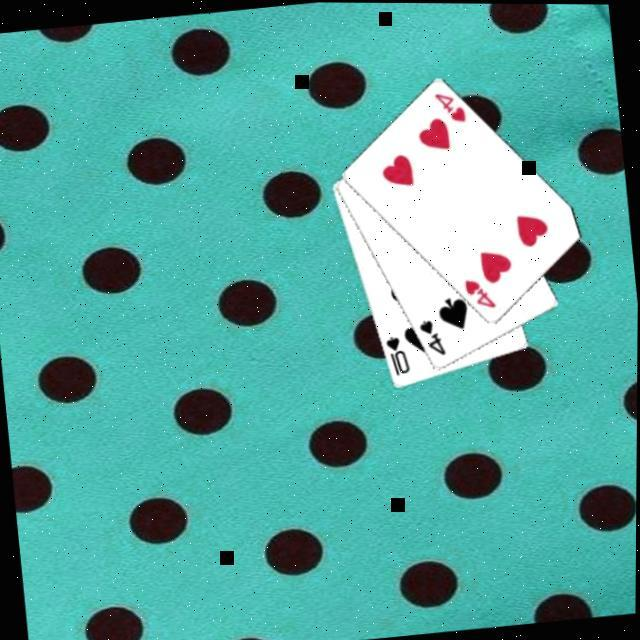10S: (379, 332, 412, 381)
4H: (428, 87, 467, 128), (459, 274, 498, 314)
4S: (412, 315, 446, 360)
